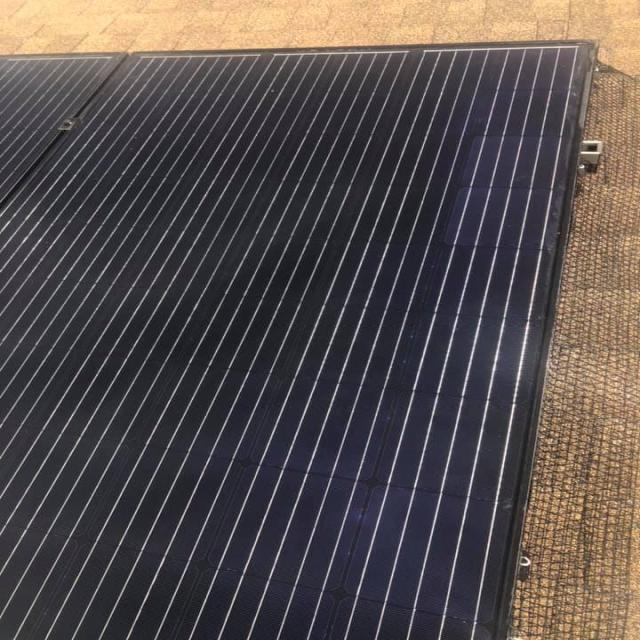clean-solar-panel: (3, 42, 593, 640)
